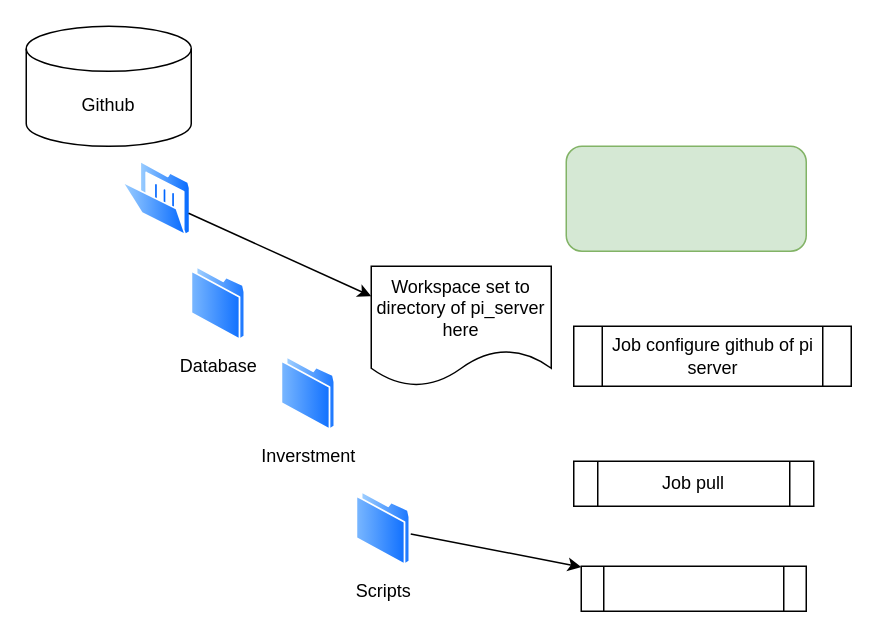
Image size: 878x638. Some labels were removed from this diagram. Each missing label, with the box of its shape:
Jenkins all jobs for pi server: (565, 145, 806, 251)
Jobs to execute scripts: (580, 565, 806, 611)
Pi server: (122, 160, 190, 236)
